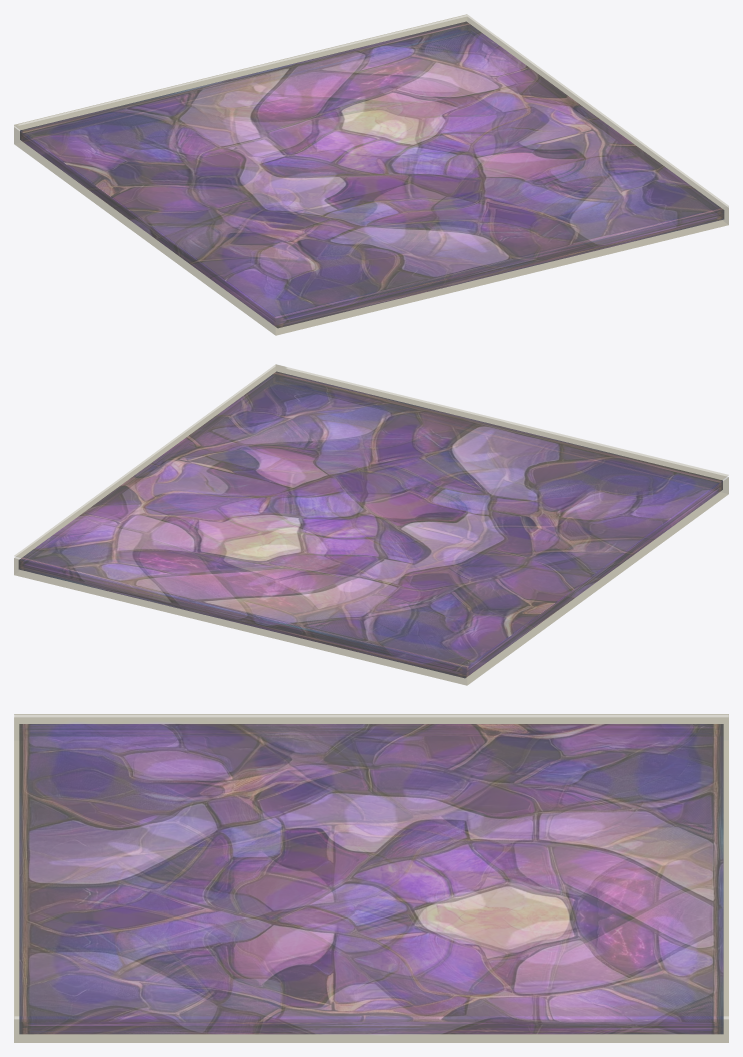
The model's file is tiles1.glb.
3 views of the same model, one above another, from view 1: azimuth 30°, elevation 25°; view 2: azimuth 150°, elevation 25°; view 3: azimuth 270°, elevation 25° (orthographic). The views are drawn at different scales.
Visible parts, largest first — view 1: T1; view 2: T1; view 3: T1.
Part boxes in pixels (left/top/right/bottom): T1: left=14, top=14, right=728, bottom=335; T1: left=14, top=364, right=728, bottom=685; T1: left=14, top=714, right=728, bottom=1042.
Size of the model in its own units: 0.9457 by 0.1577 by 0.9457.
Materials: 3 (2 with a texture image).
